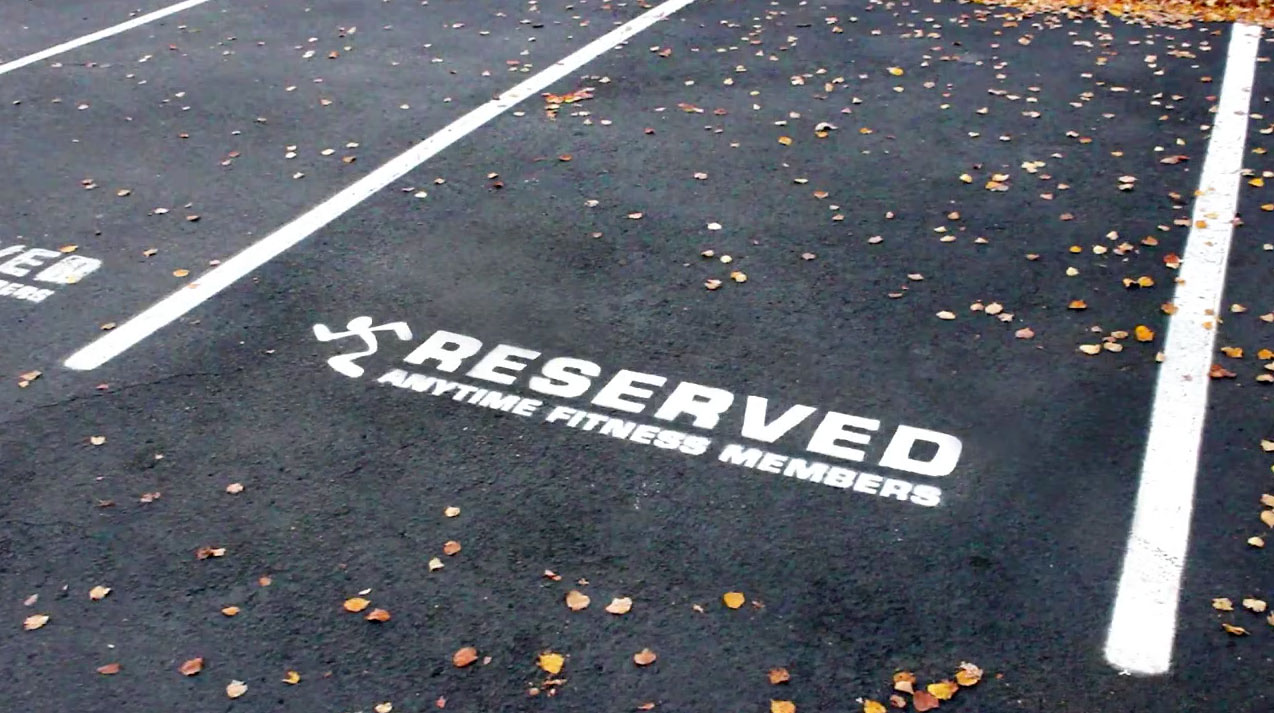empyt_space: (66, 1, 1264, 686), (1, 1, 714, 392)
